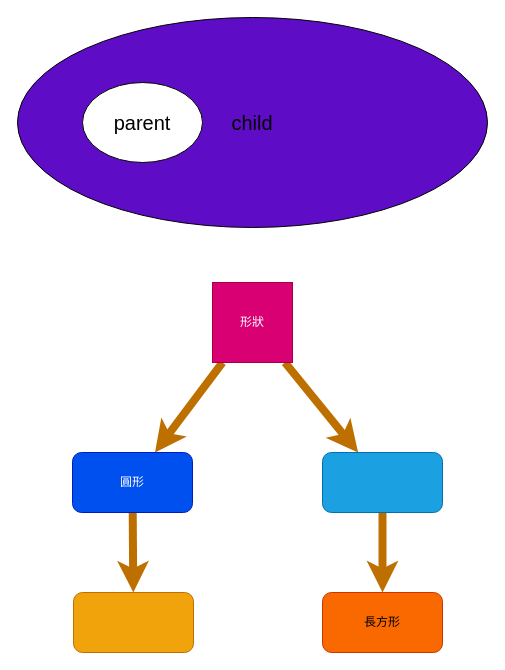
This 505x670 diagram has some shape labels left out. The shapes that lost their labels are listed below. From the top down, each one's centre as x and y in pixels, then its label:
point 382,482: 正方形
point 133,622: 橢圓型
